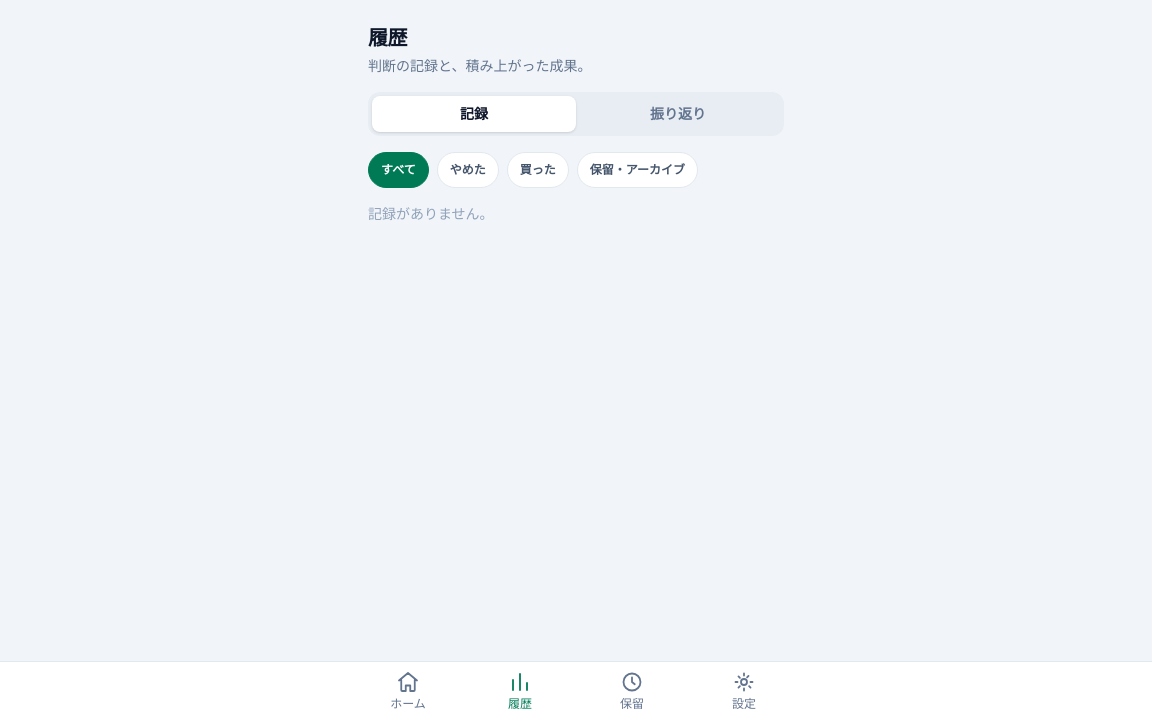
Test case: 振り返りタブ: 空データでもクラッシュしない › 判断・価値尺度・目標が0件でもクラッシュしない
Click the tab "振り返り".
click(678, 114)  # box [576,96,780,132]
(page scrolled)
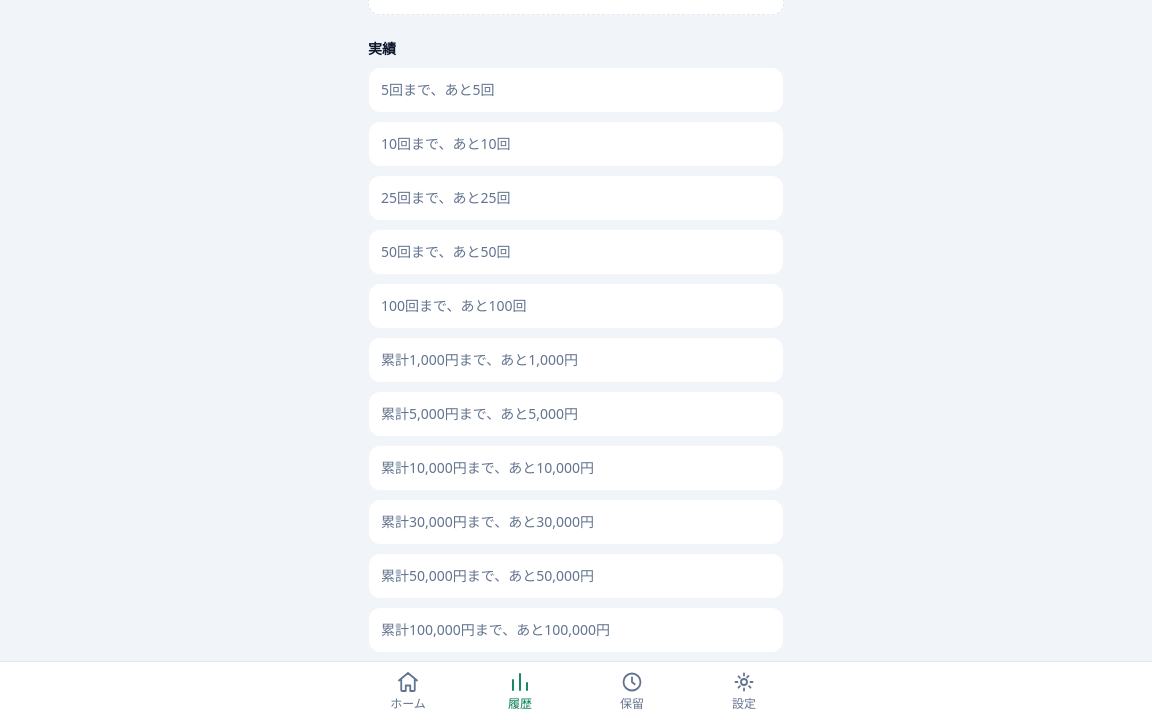
Check: the text "累計1,000円まで、あと1,000円" is shown, box [381,350,578,370]
